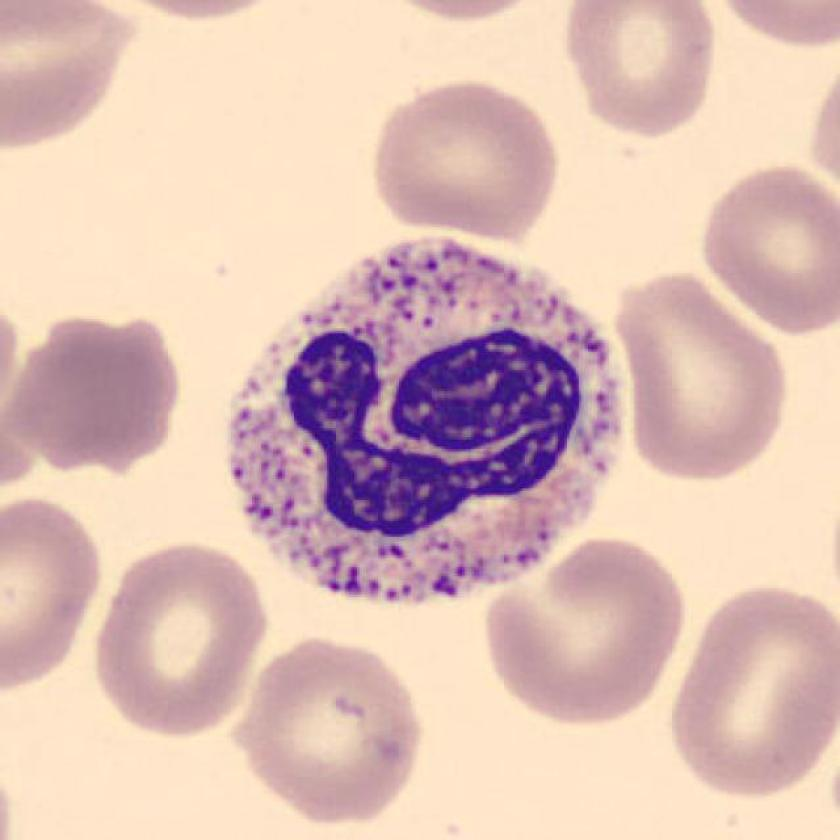neutrophil: (225, 232, 627, 606)
